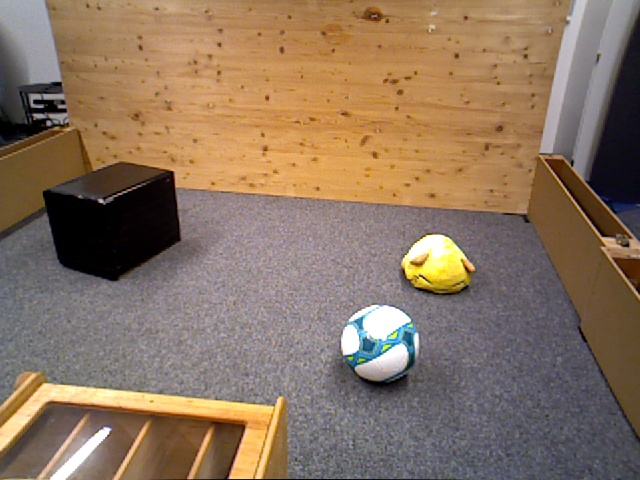grasp: (402, 233, 474, 294)
kick: (342, 305, 420, 385)
push: (42, 161, 182, 281)
